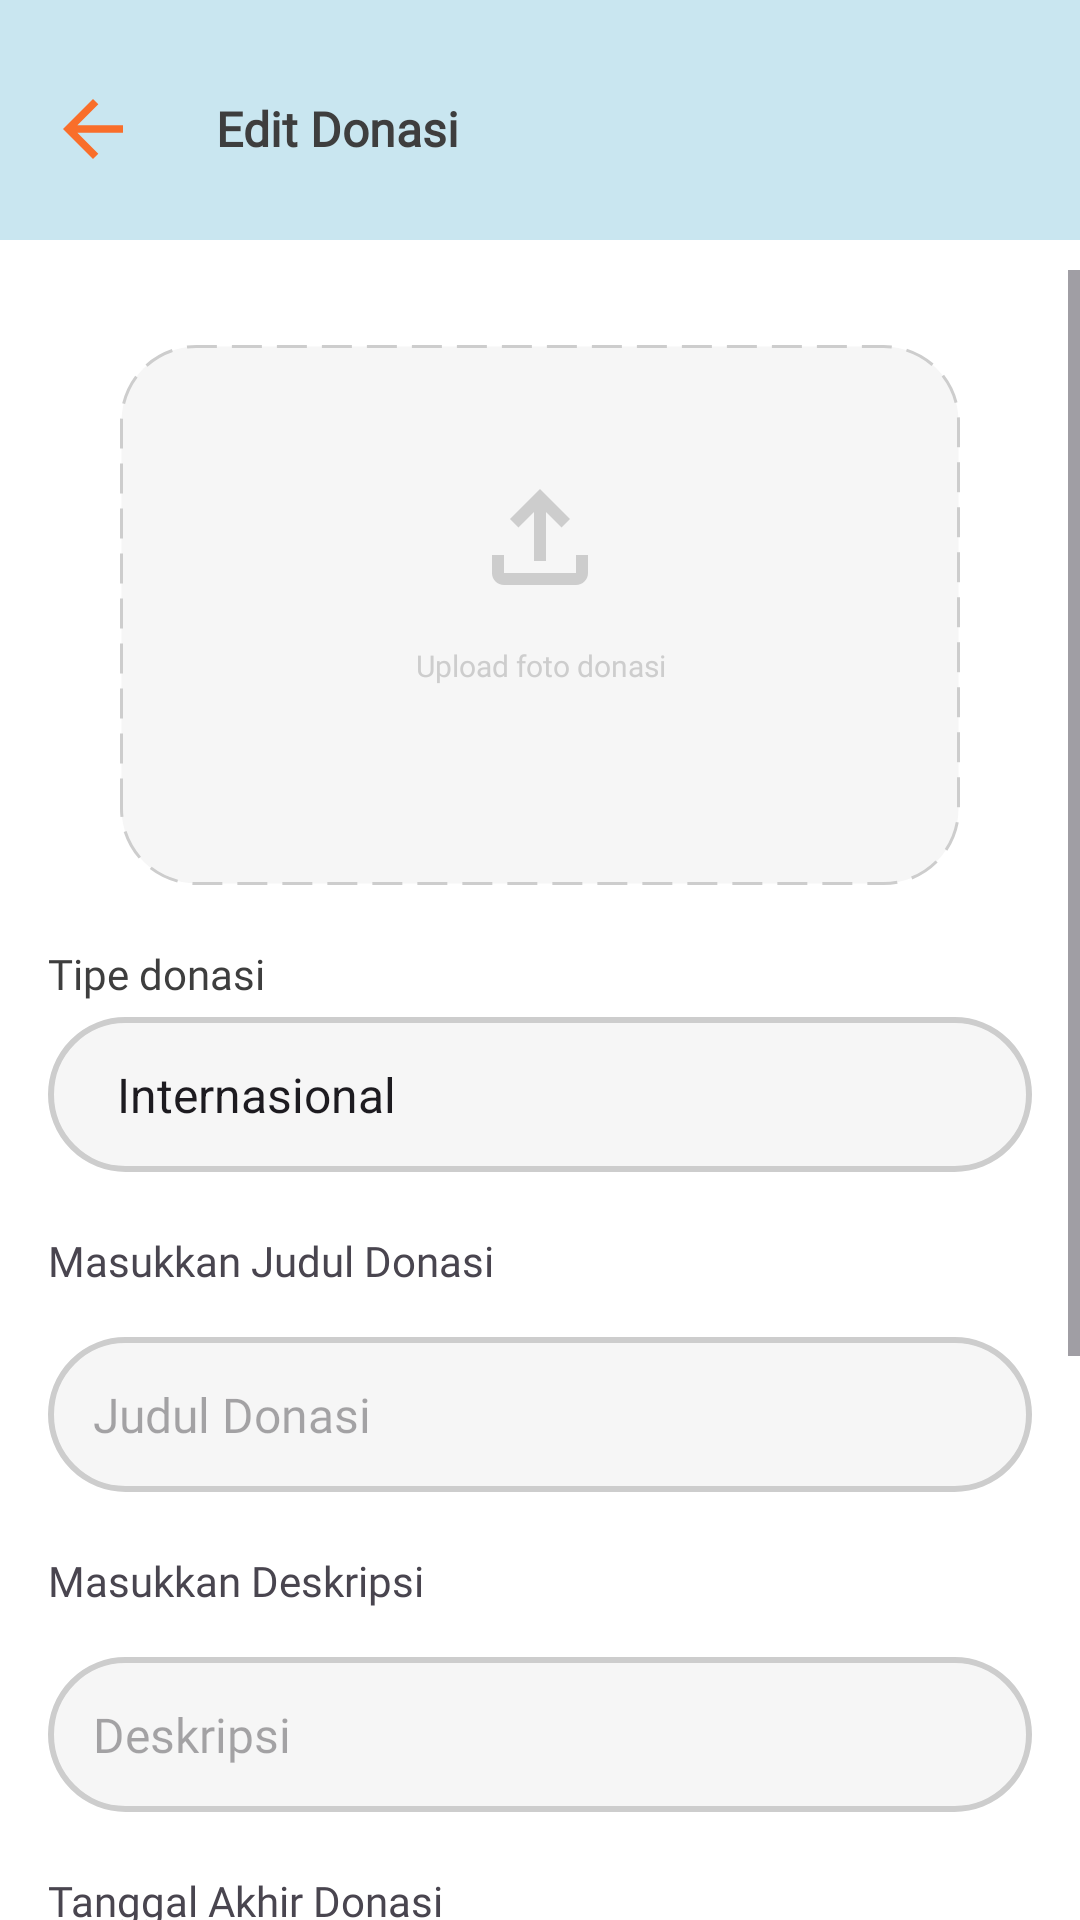

Screen size 1080×1920. Icon name, then its box in pixels as detection(x1, y1, x2, y2):
back: detection(63, 99, 123, 159)
